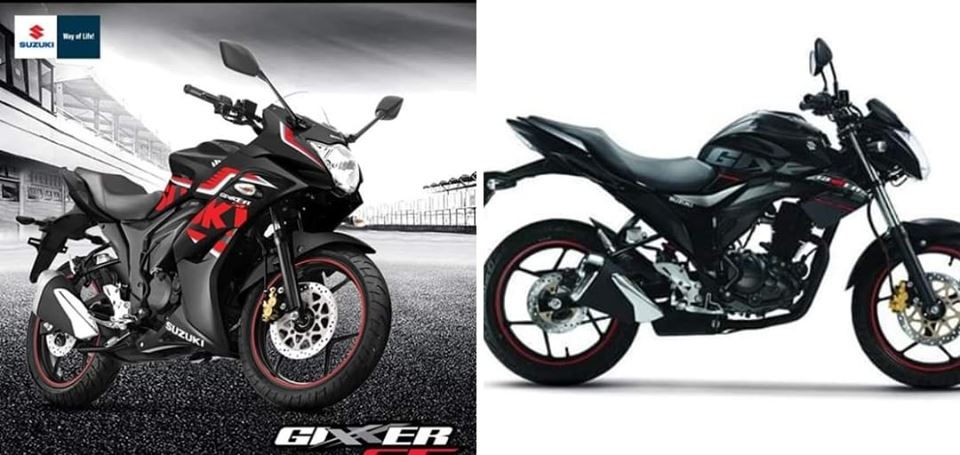bike: (481, 39, 960, 398), (16, 41, 409, 412)
